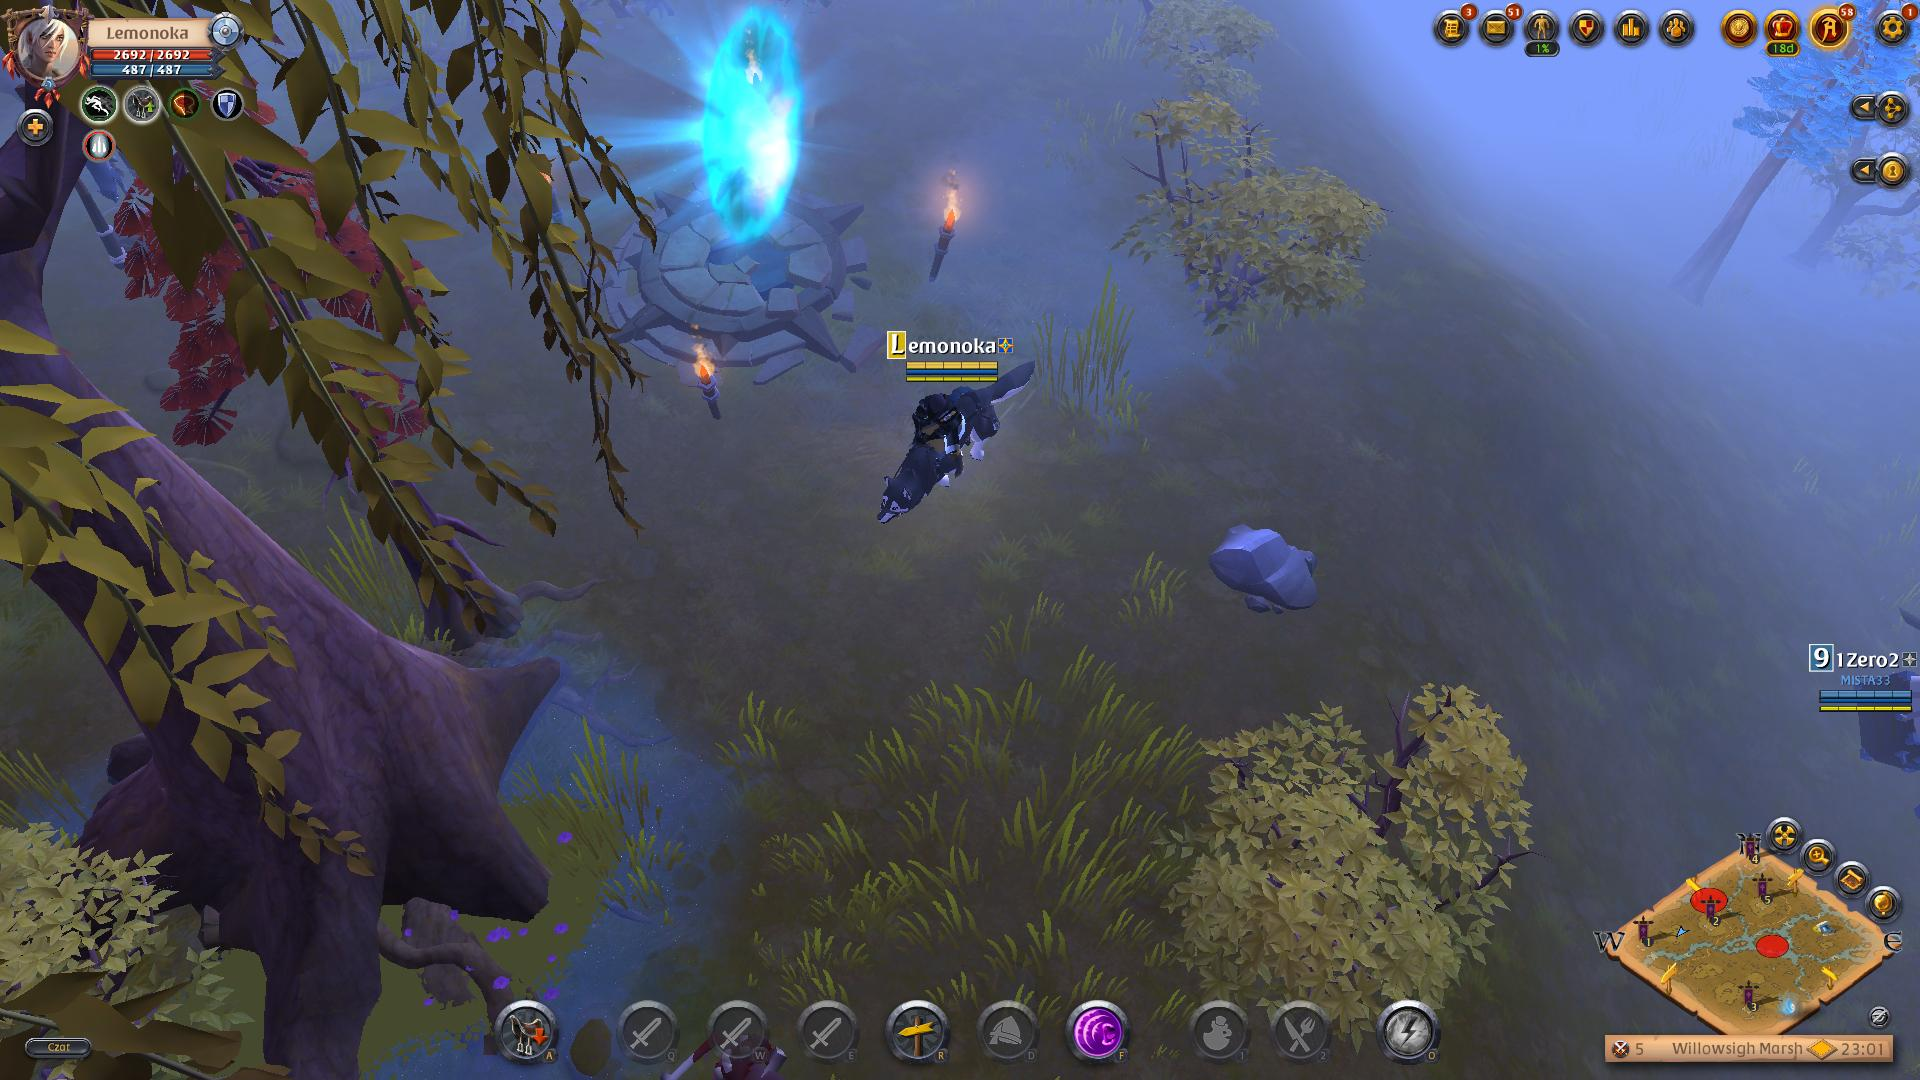rock tier 1: (1211, 518, 1325, 617)
